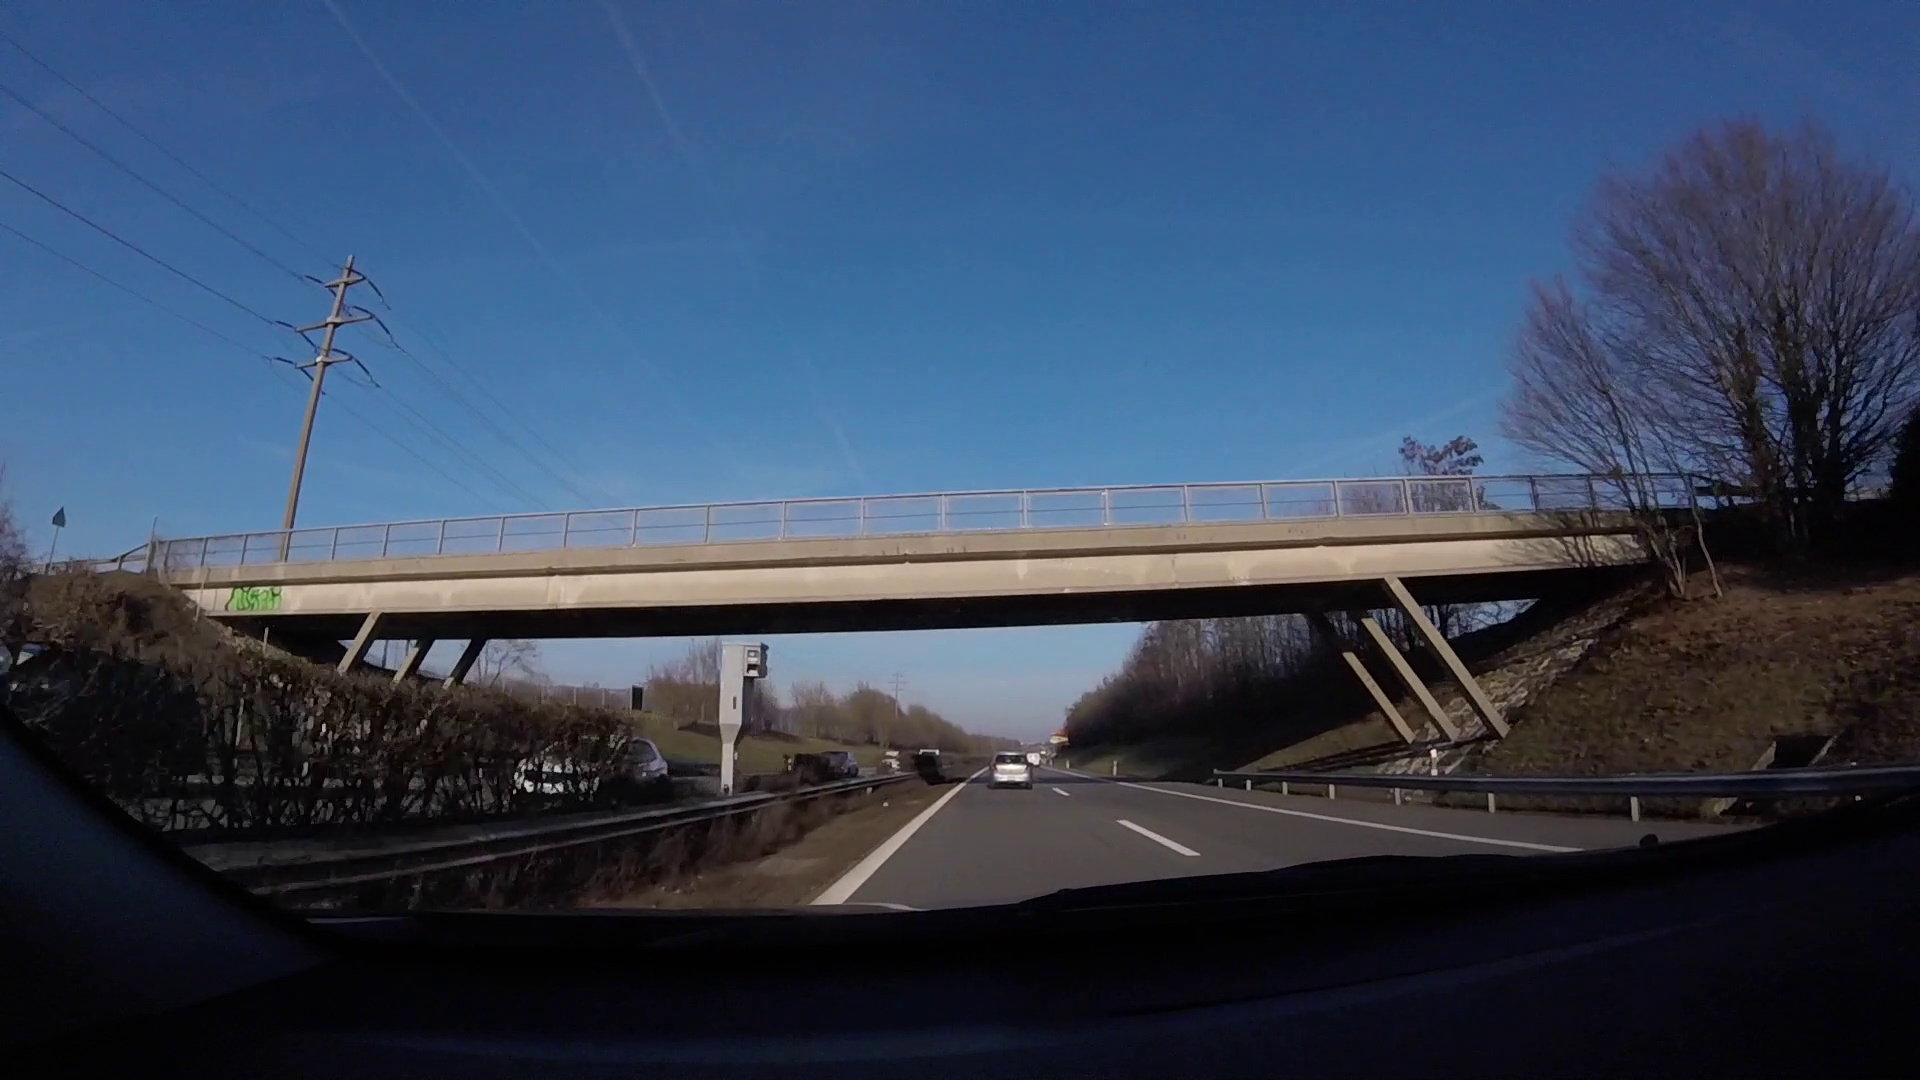radar: (719, 638, 771, 800)
